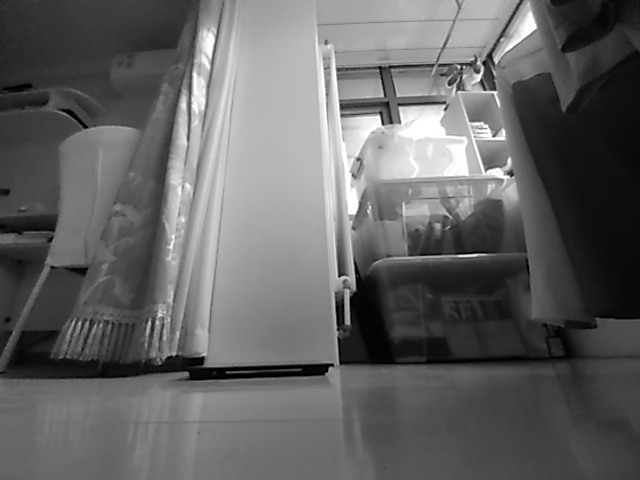curtain: (45, 1, 240, 365)
